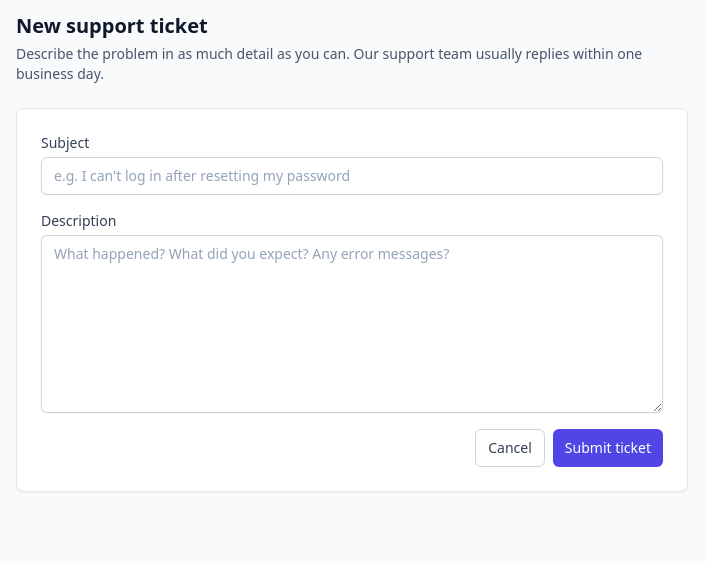
Test case: NewTicketPage › keeps the form and shows an error when the API fails
This screenshot has width=705, height=563.
Type "Export is empty" into the field labelled "Subject" at (352, 176), box [41, 157, 663, 195]
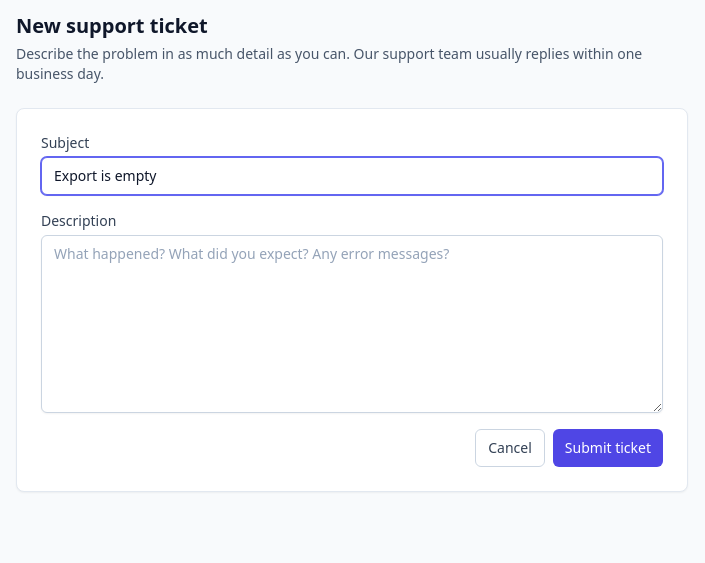
Type "The CSV export only has headers." into the text box labelled "Description" at (352, 324), box [41, 235, 663, 413]
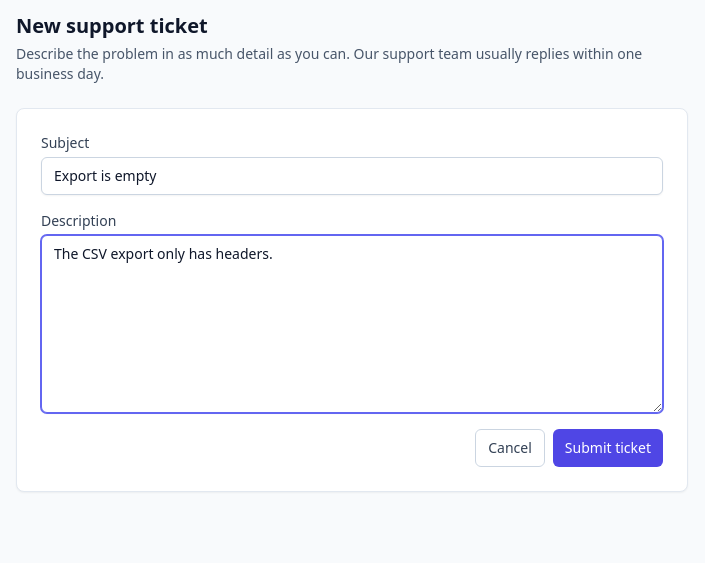
Click the button "Submit ticket" at (608, 448), box [553, 429, 663, 467]
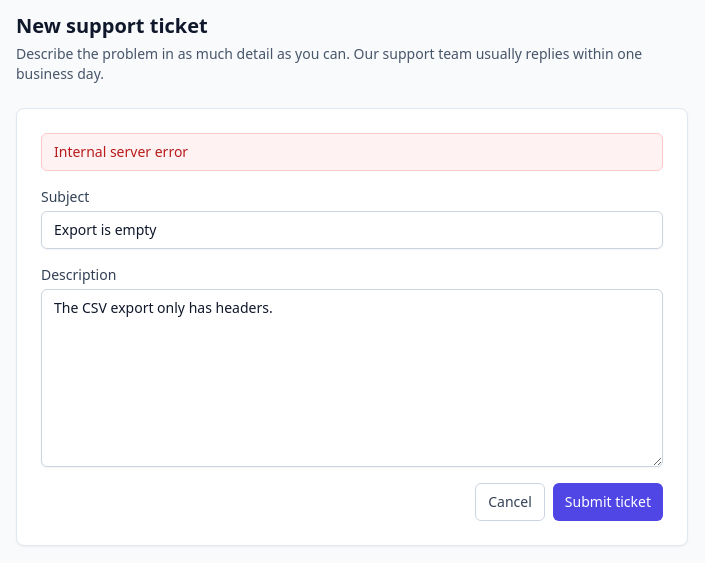
Expected: the message reads "Internal server error", [54, 142, 188, 161]
